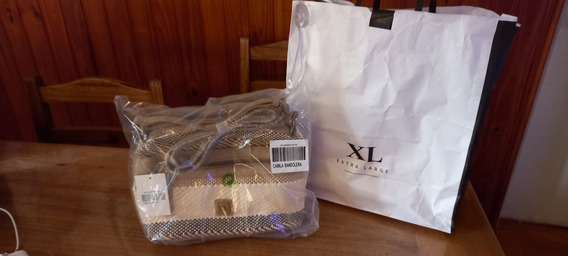cartera: (123, 94, 317, 241)
